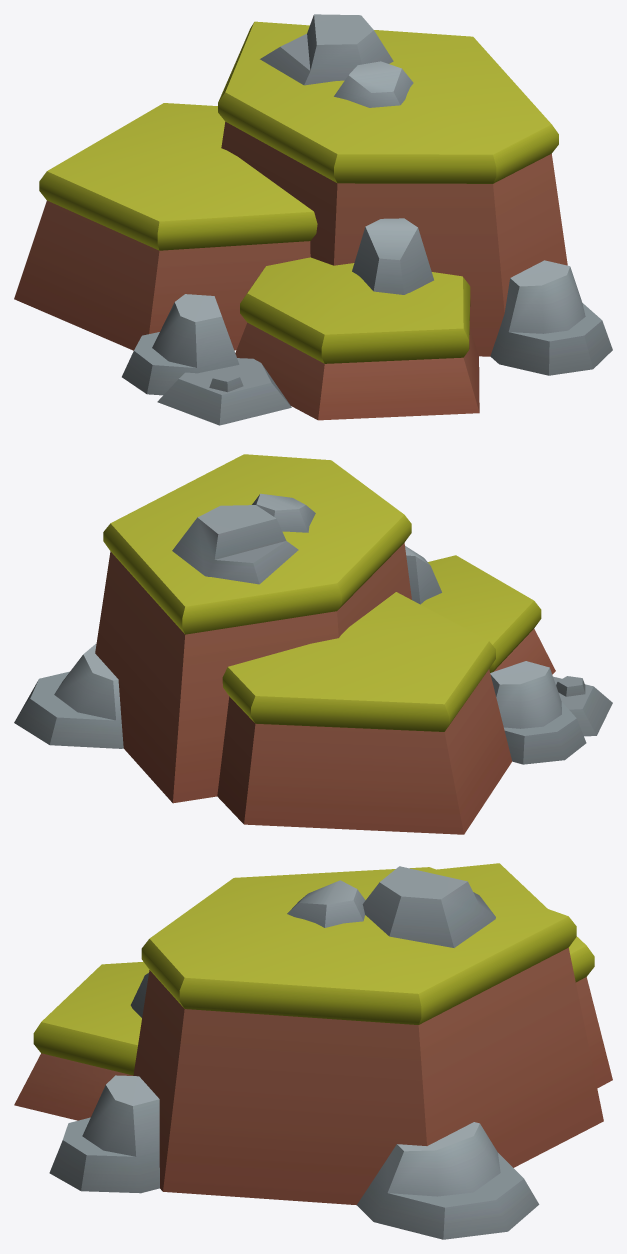
File: kaykit-medieval-hexagon-pack-hills-a.glb
The picture shows the model from 3 angles, top to bottom: view 1: azimuth 30°, elevation 25°; view 2: azimuth 150°, elevation 25°; view 3: azimuth 270°, elevation 25°; orthographic projection. The views are drawn at different scales.
Parts seen in each view (by area): view 1: hills_A; view 2: hills_A; view 3: hills_A.
Part boxes in pixels (x1=…): hills_A: x1=14, y1=14, x2=612, y2=425; hills_A: x1=14, y1=454, x2=612, y2=834; hills_A: x1=14, y1=863, x2=612, y2=1239.
Size of the model in its own units: 1.76 by 0.7942 by 1.74.
1 material, 1 textured.
